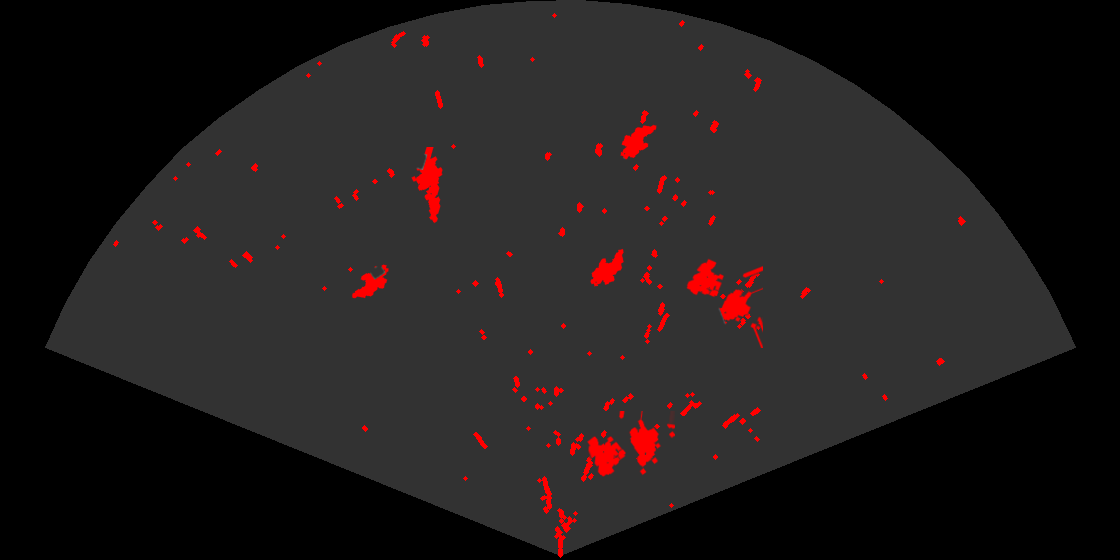AUV: (619, 123, 658, 161), (350, 263, 390, 300), (589, 247, 625, 288)
cage: (685, 257, 763, 348), (586, 411, 675, 478)
frogman: (410, 147, 444, 225)
